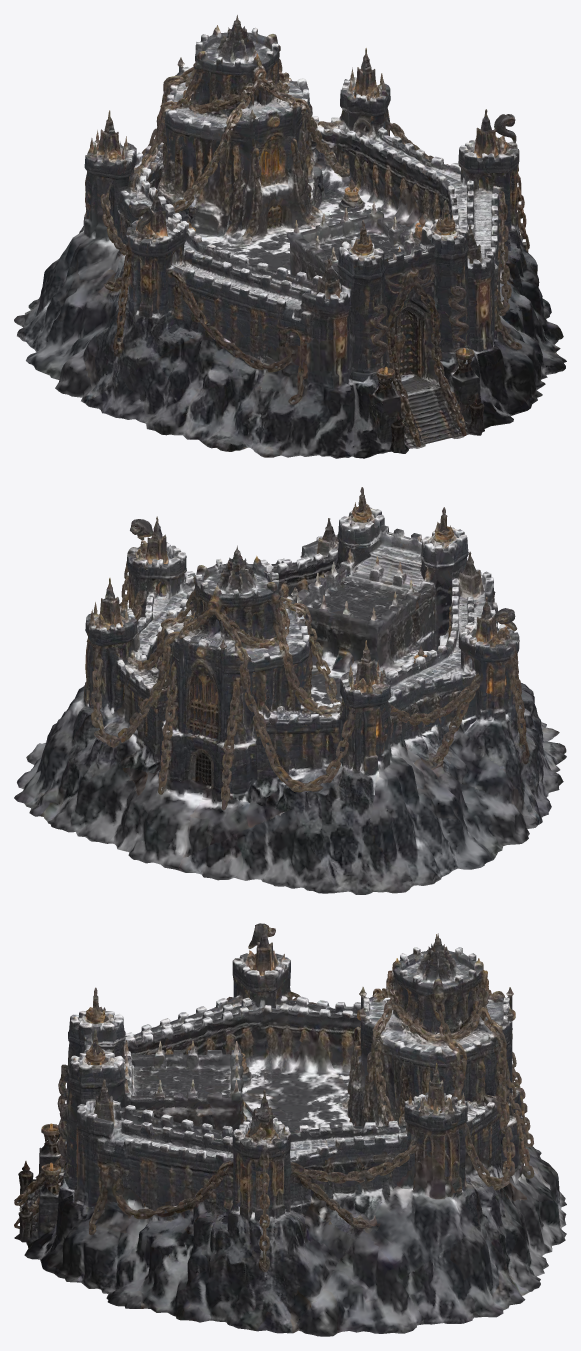
Rendered from DamavandPrison.glb.
The picture shows the model from 3 angles, top to bottom: view 1: azimuth 30°, elevation 25°; view 2: azimuth 150°, elevation 25°; view 3: azimuth 270°, elevation 25°; orthographic projection. The views are drawn at different scales.
Size of the model in its own units: 1.9 by 1.09 by 1.89.
Materials: 1 (1 with a texture image).
